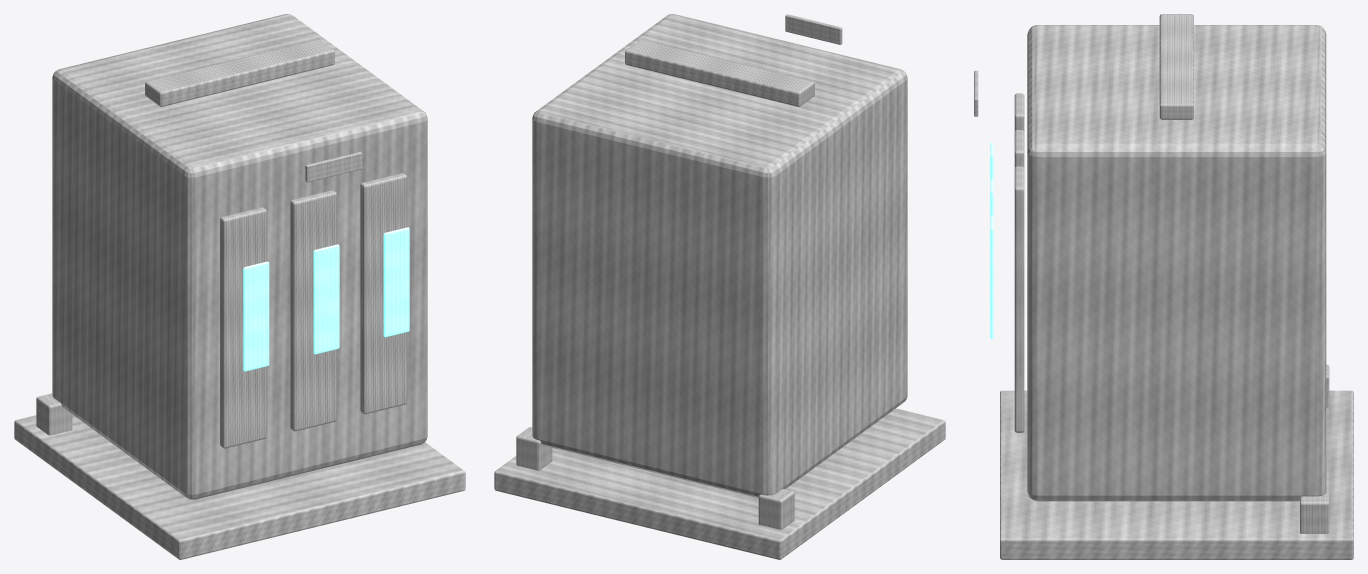
The model's file is power_storage_variant_b.glb.
3 views of the same model, side by side, from view 1: azimuth 30°, elevation 25°; view 2: azimuth 150°, elevation 25°; view 3: azimuth 270°, elevation 25° (orthographic). The views are drawn at different scales.
Parts seen in each view (by area): view 1: Battery cabinet.002, Foundation.001, Battery cell.006, Battery cell.005, Battery cell.004, Top busbar.001, Charge window.005, Charge window.006, Charge window.004, Service foot.002, Asset ID plate.002; view 2: Battery cabinet.002, Foundation.001, Top busbar.001, Service foot.002, Service foot.003, Asset ID plate.002; view 3: Battery cabinet.002, Foundation.001, Top busbar.001, Battery cell.006, Service foot.003, Charge window.006.
Boxes of the visible parts, bbox=[...] form: Battery cabinet.002: bbox=[52, 14, 427, 499]; Foundation.001: bbox=[14, 414, 465, 559]; Battery cell.006: bbox=[360, 173, 407, 414]; Battery cell.005: bbox=[290, 190, 336, 431]; Battery cell.004: bbox=[220, 207, 266, 448]; Top busbar.001: bbox=[145, 39, 334, 106]; Charge window.005: bbox=[313, 244, 339, 354]; Charge window.006: bbox=[383, 227, 409, 337]; Charge window.004: bbox=[243, 261, 269, 371]; Service foot.002: bbox=[36, 393, 72, 435]; Asset ID plate.002: bbox=[305, 151, 362, 182]; Battery cabinet.002: bbox=[532, 14, 907, 497]; Foundation.001: bbox=[494, 408, 945, 559]; Top busbar.001: bbox=[625, 39, 814, 106]; Service foot.002: bbox=[758, 488, 794, 529]; Service foot.003: bbox=[516, 427, 552, 470]; Asset ID plate.002: bbox=[785, 14, 842, 44]; Battery cabinet.002: bbox=[1027, 25, 1326, 501]; Foundation.001: bbox=[1000, 390, 1353, 559]; Top busbar.001: bbox=[1159, 14, 1193, 119]; Battery cell.006: bbox=[1014, 166, 1024, 432]; Service foot.003: bbox=[1300, 491, 1329, 533]; Charge window.006: bbox=[990, 215, 993, 338].
Size of what is drawn, in the model's own units: 3.6 by 4.79 by 3.86.
Materials: 5 (5 with a texture image).
